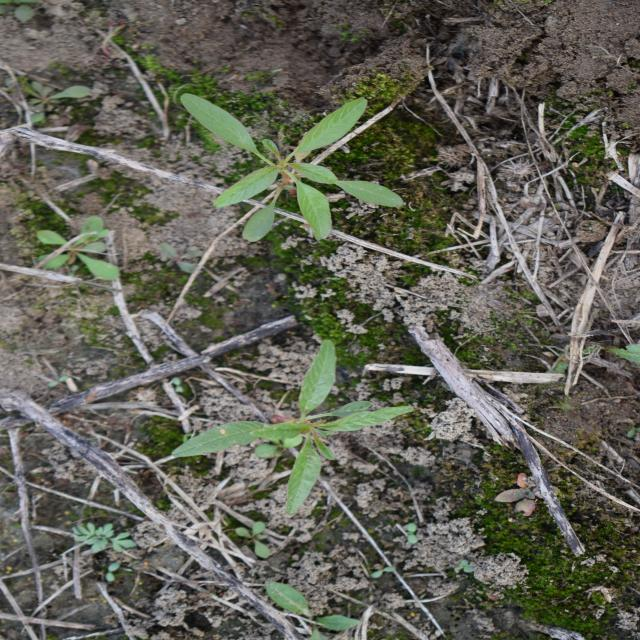Carpetweed: (35, 218, 124, 284)
Ragweed: (67, 520, 140, 557)
Waterhemp: (169, 338, 418, 518), (178, 92, 406, 245)
